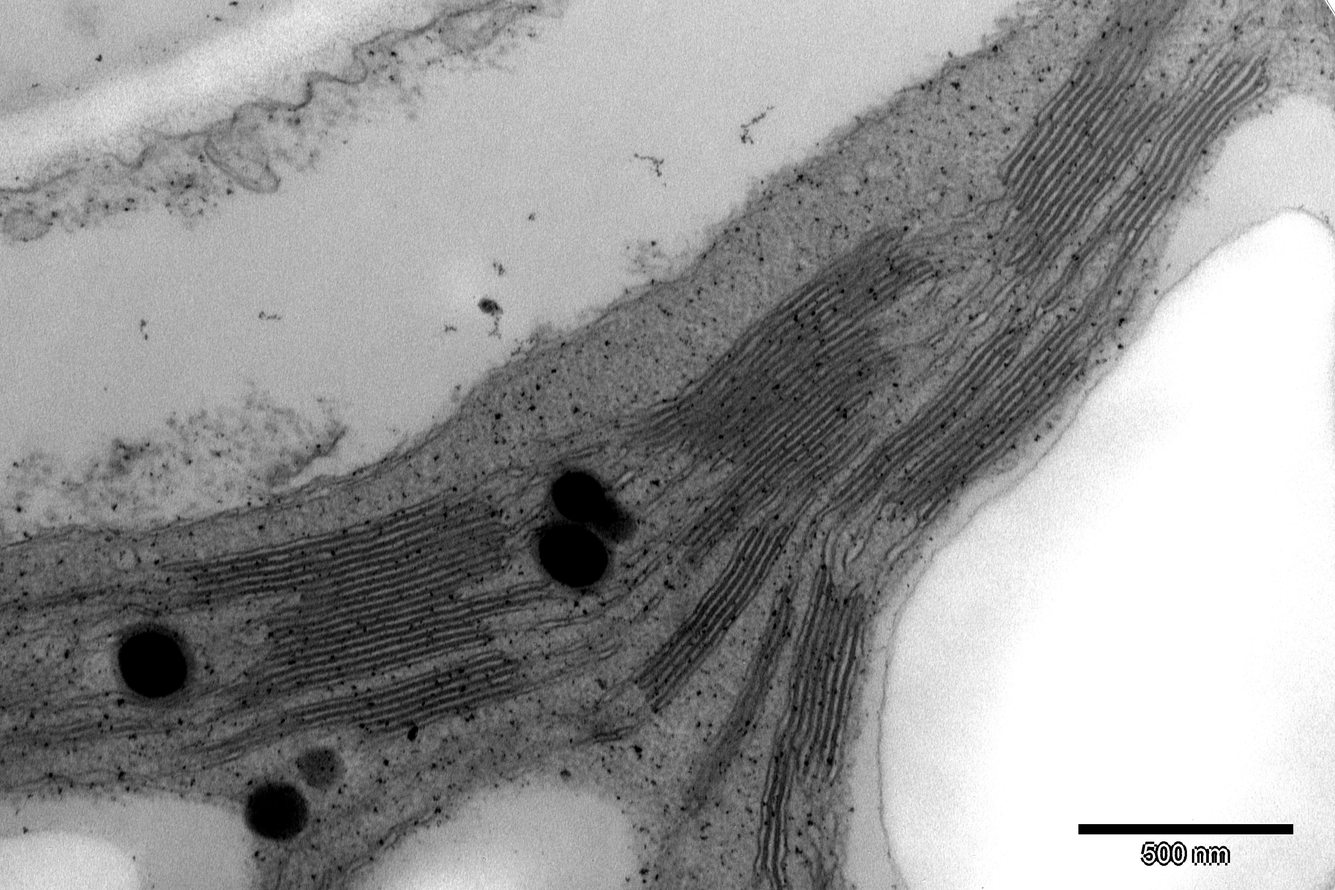granum: (615, 219, 944, 569), (151, 469, 568, 706), (982, 0, 1192, 284), (877, 311, 1097, 526), (197, 644, 540, 776), (748, 577, 884, 885), (828, 319, 1026, 523), (1093, 48, 1274, 261), (626, 521, 794, 719), (678, 594, 801, 812), (25, 712, 122, 754)
